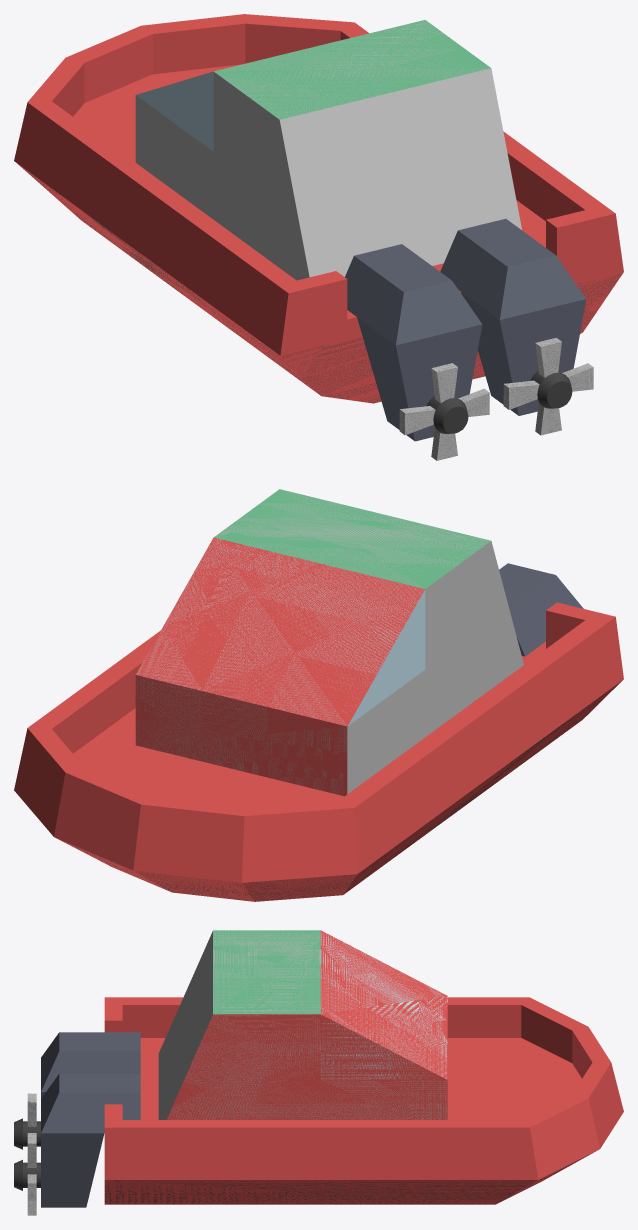
The model's file is boat_010.dae.
The picture shows the model from 3 angles, top to bottom: view 1: azimuth 30°, elevation 25°; view 2: azimuth 150°, elevation 25°; view 3: azimuth 270°, elevation 25°; orthographic projection. The views are drawn at different scales.
Parts seen in each view (by area): view 1: boat_010, Group (×4); view 2: boat_010, Group; view 3: boat_010, Group (×3).
Boxes of the visible parts, x1,y1,x2,y2 form: boat_010: (14, 14, 623, 403); Group (×4): (345, 218, 593, 460); boat_010: (14, 489, 623, 901); Group: (499, 563, 583, 656); boat_010: (104, 930, 623, 1204); Group (×3): (14, 1032, 140, 1215).
Size of the model in its own units: 1.78 by 1.33 by 3.37.
